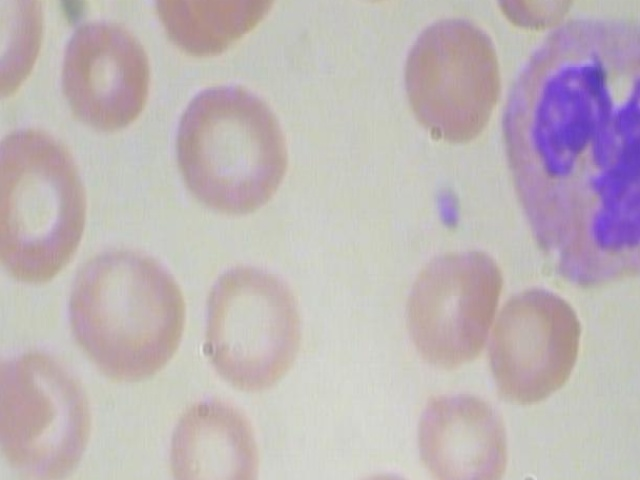Platelets: (430, 179, 472, 245)
RBC: (58, 248, 189, 388), (176, 79, 295, 219), (386, 4, 505, 144), (191, 259, 309, 399), (0, 123, 93, 291), (398, 243, 506, 380), (477, 271, 585, 408), (50, 12, 162, 140), (0, 348, 99, 475), (406, 376, 519, 480), (153, 384, 272, 480), (135, 0, 247, 54), (177, 0, 289, 39), (492, 0, 580, 39)
WBC: (499, 12, 640, 305)
